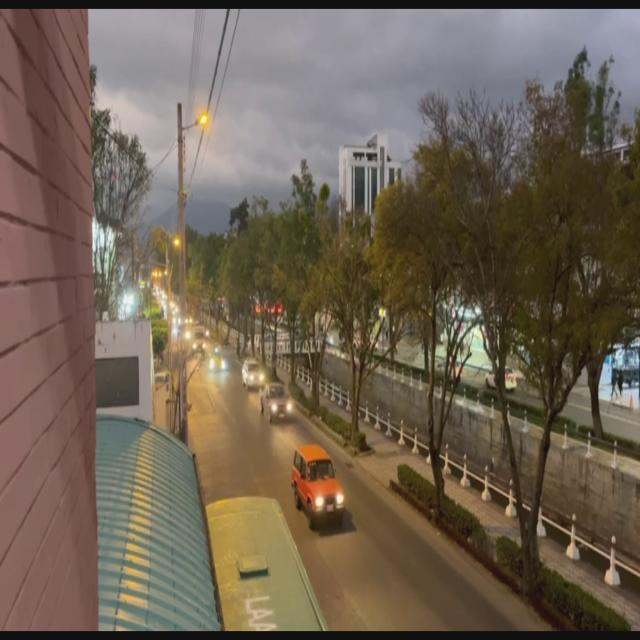CMT: (261, 386, 291, 420)
SUV: (294, 452, 341, 529), (243, 361, 263, 390)
